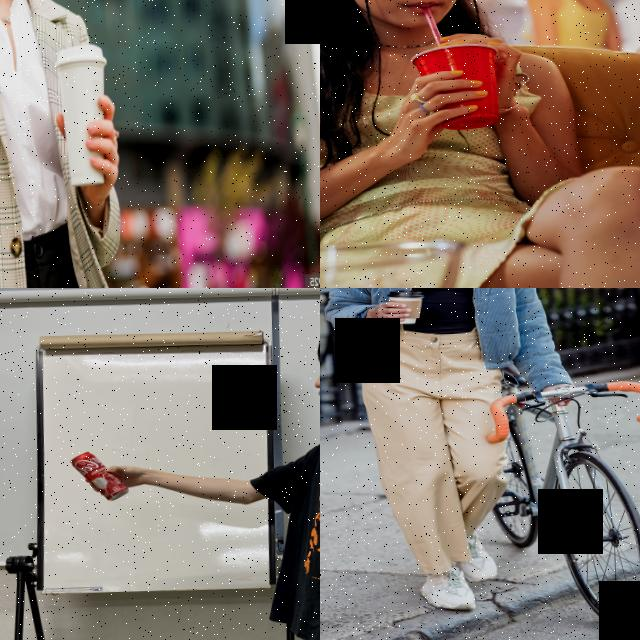can: (66, 448, 130, 502)
cup: (408, 38, 506, 132), (52, 41, 112, 188), (386, 288, 425, 325)
